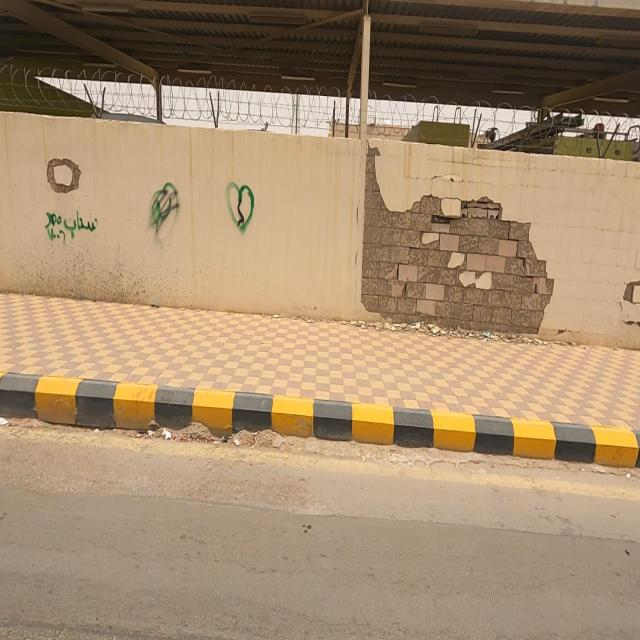Graffiti: (45, 208, 99, 250), (151, 183, 180, 244), (226, 182, 257, 236)
